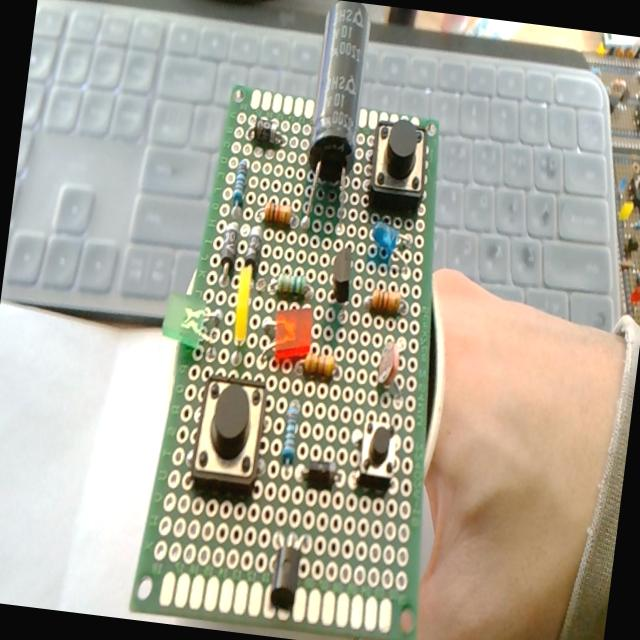Electrolytic capacitor: (296, 3, 372, 235)
cds: (373, 341, 409, 401)
diode: (217, 219, 240, 276), (302, 458, 338, 490), (242, 222, 264, 272), (250, 117, 286, 147)
led: (155, 288, 207, 348), (269, 301, 315, 364), (366, 219, 414, 271), (232, 265, 254, 342)
resistor: (280, 400, 300, 464), (300, 349, 336, 380), (369, 286, 402, 316), (276, 270, 306, 297), (232, 157, 248, 206), (264, 199, 293, 225)
switch: (188, 374, 269, 492), (366, 116, 432, 212), (354, 414, 398, 491)
transistor: (264, 530, 312, 614), (328, 246, 354, 302)
